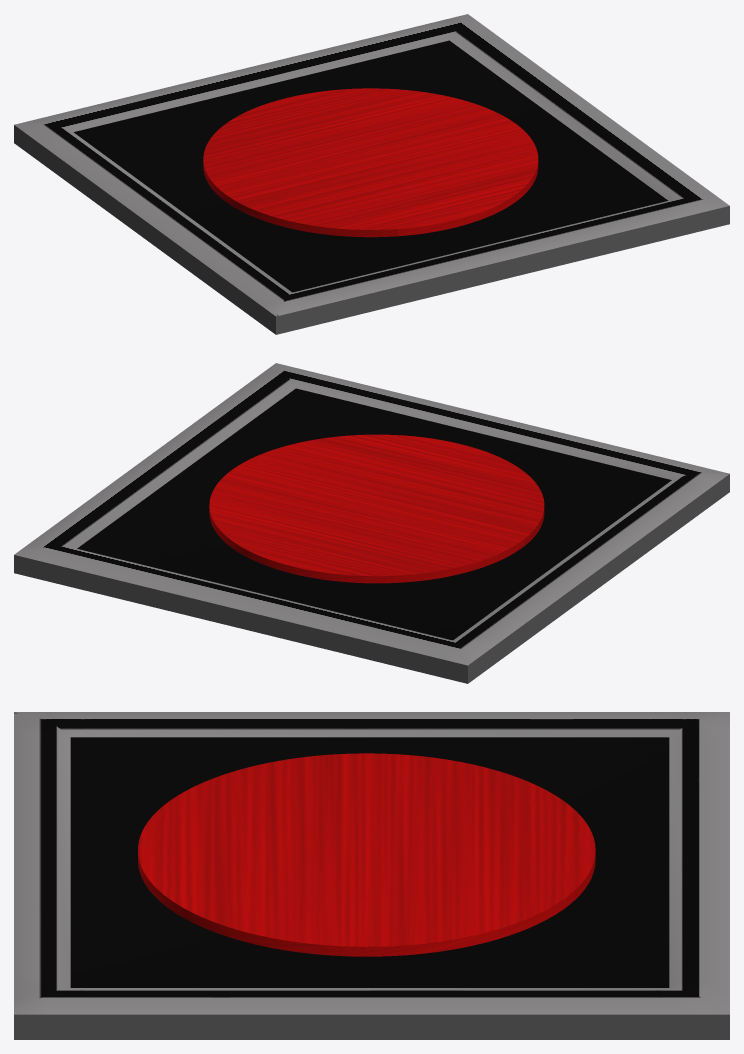
The model's file is Bouton_Pression.FBX.
3 renders of one model, top to bottom at view 1: azimuth 30°, elevation 25°; view 2: azimuth 150°, elevation 25°; view 3: azimuth 270°, elevation 25°, orthographic. The views are drawn at different scales.
Parts seen in each view (by area): view 1: Box001, Cylinder001; view 2: Box001, Cylinder001; view 3: Box001, Cylinder001.
Part boxes in pixels (x1,y1,x2,y2): Box001: (14,14,729,334); Cylinder001: (203,88,538,237); Box001: (14,363,729,683); Cylinder001: (209,434,544,583); Box001: (14,712,729,1039); Cylinder001: (138,753,595,956).
Bounding box in the file's own units: 100 × 5.61 × 100.
2 materials, 2 textured.
